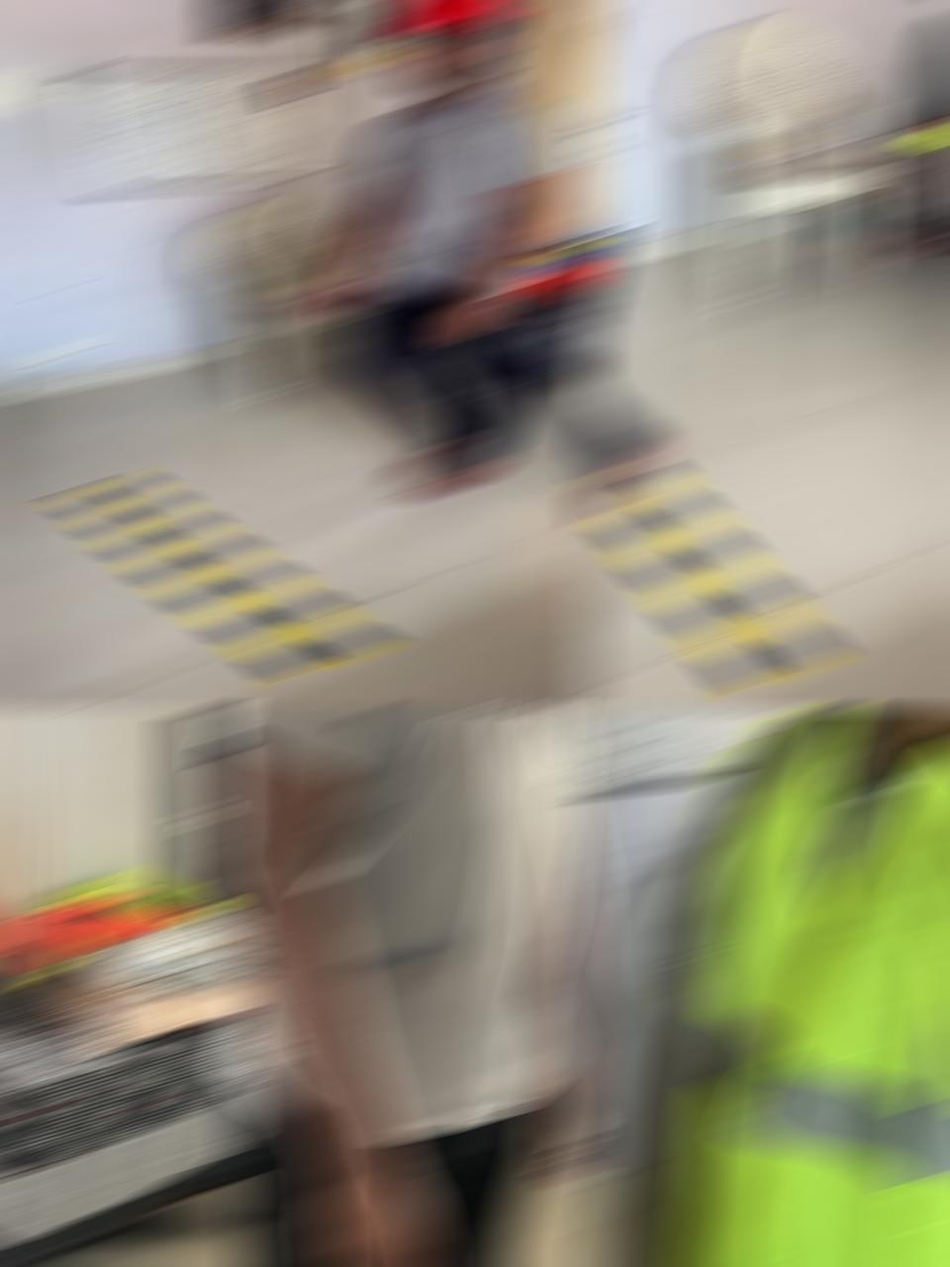BorderLine: (52, 477, 393, 677), (578, 455, 842, 689)
Helmet: (369, 3, 526, 30)
No_Vest: (200, 712, 588, 1135), (352, 80, 572, 292)
Person: (198, 712, 600, 1264), (602, 712, 950, 1264), (316, 3, 572, 493), (578, 3, 674, 641)
Vest: (675, 712, 950, 1264)
